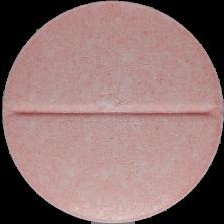50111-470: (0, 0, 224, 224)
